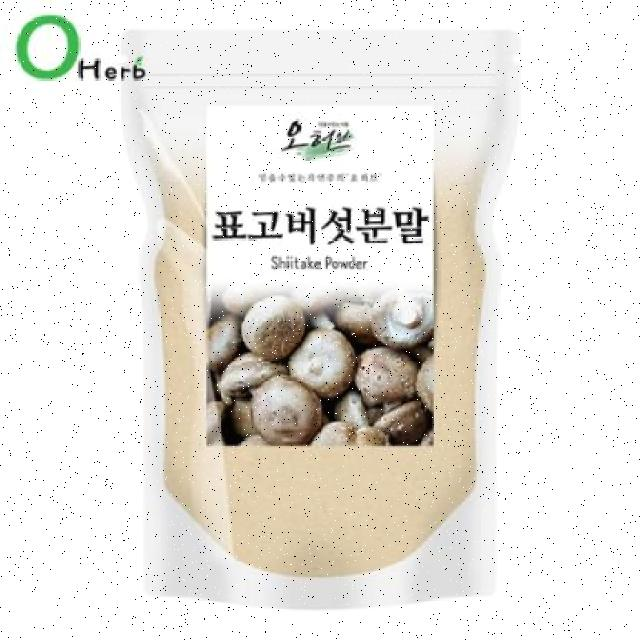Mushroom: (149, 55, 493, 597)
